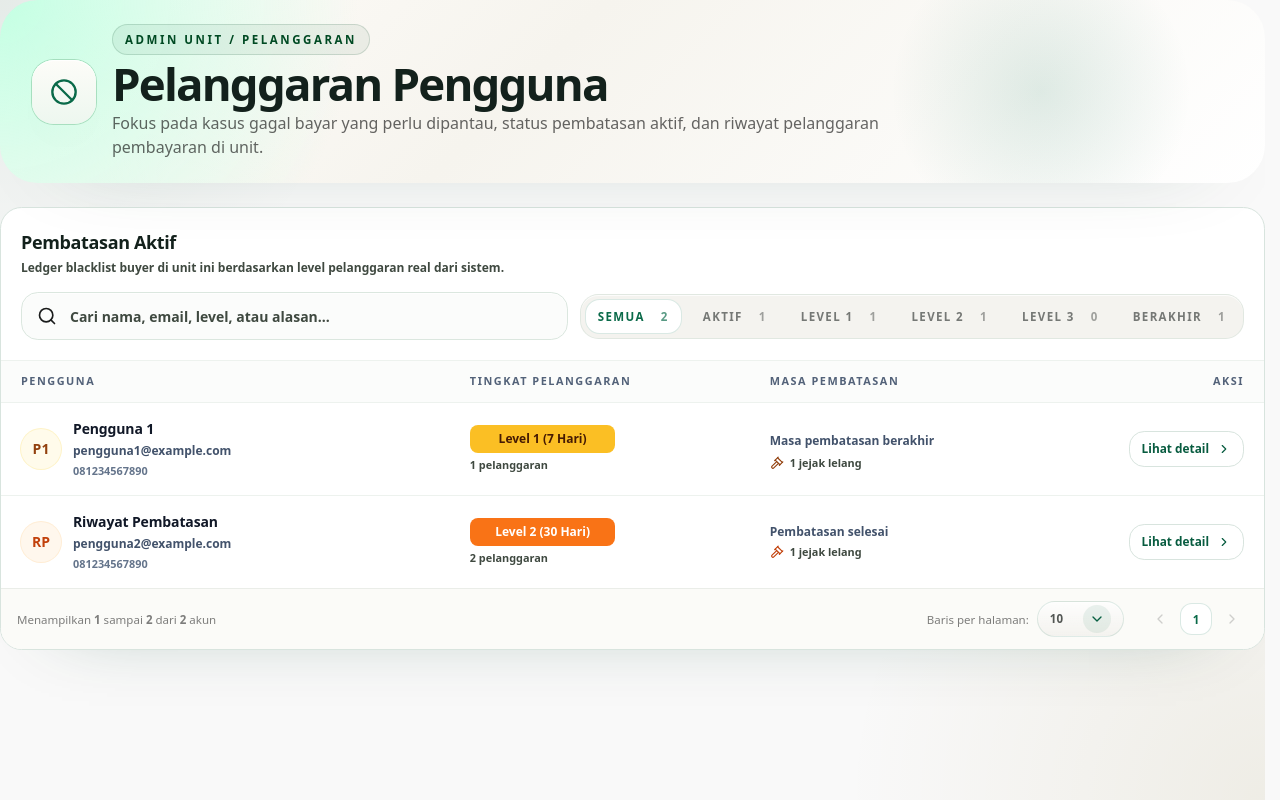
Scenario: AdminBlacklistPage › filters the historical list using the true ended restriction state
Click the button "Berakhir 1": (1179, 316) [1120,299,1239,334]
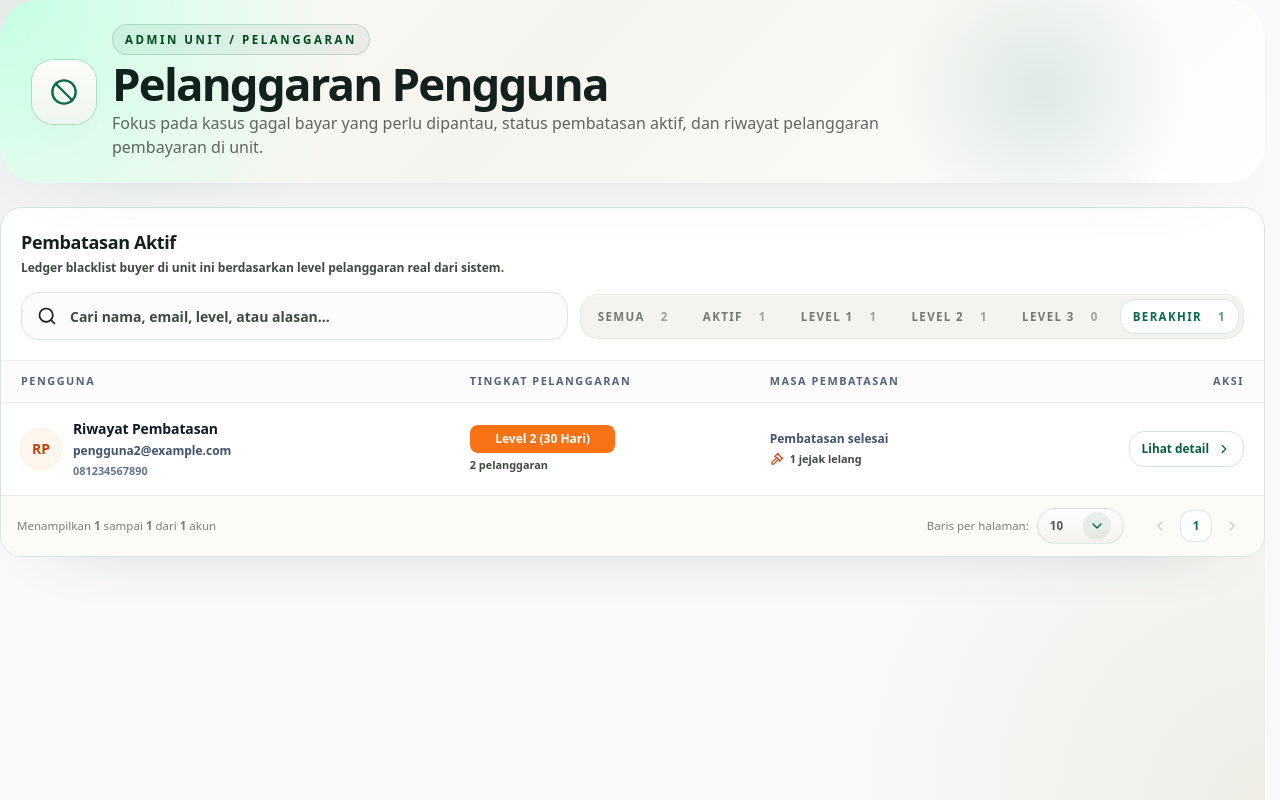
Expected: the text "Riwayat Pembatasan" is shown, [73,419,231,439]
Expected: the text "Pengguna 1" is gone
